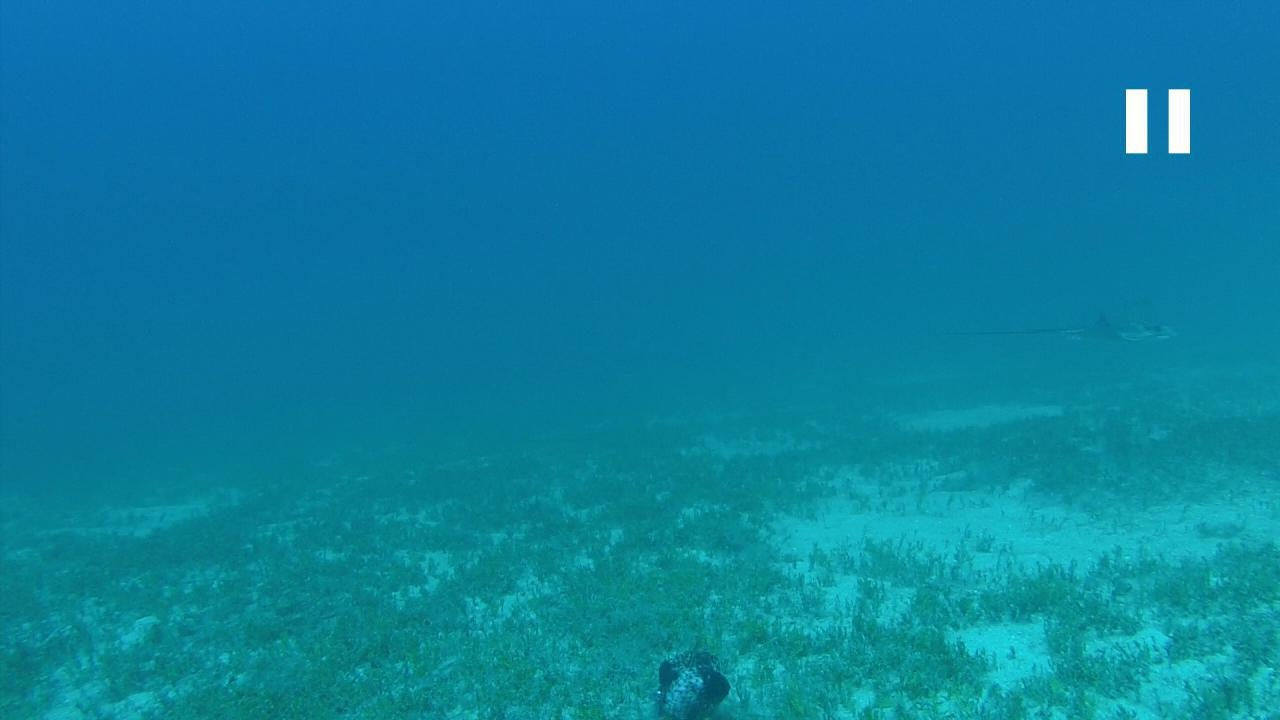dasyatis: (937, 281, 1180, 344)
